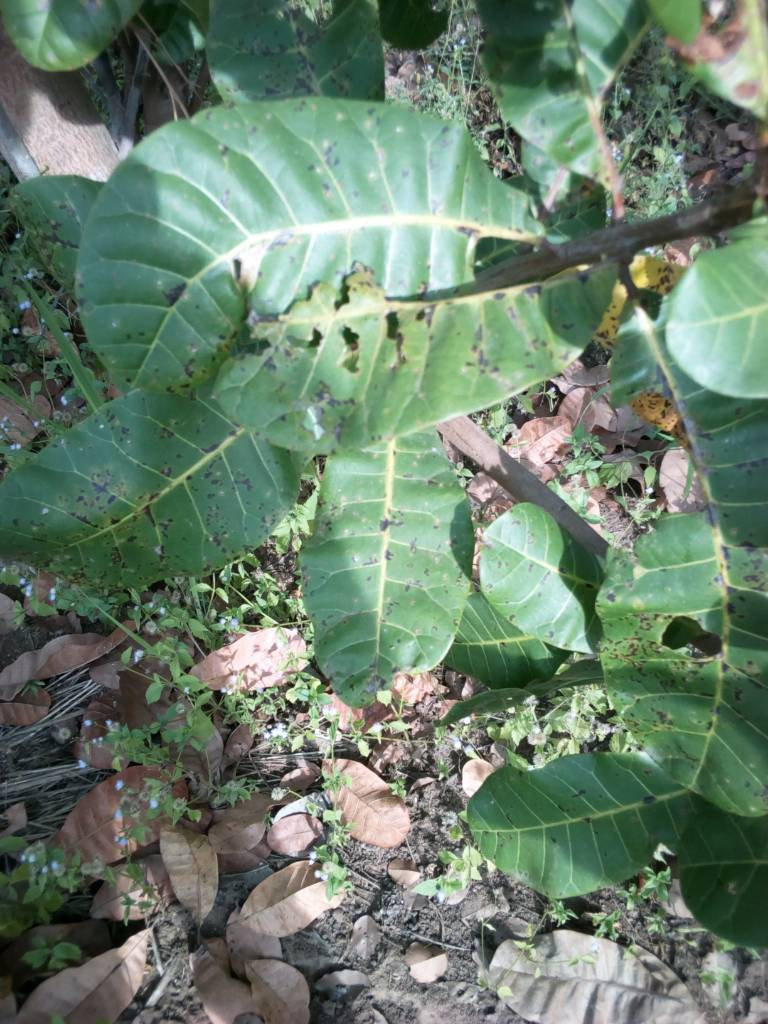Anthracnose: (80, 94, 522, 385), (207, 260, 622, 452), (4, 367, 316, 591), (604, 403, 766, 811), (200, 1, 391, 100)
